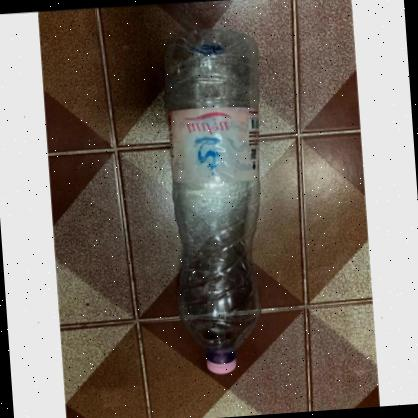bottle: (156, 24, 283, 378)
cap: (206, 354, 239, 374)
label: (167, 104, 266, 186)
